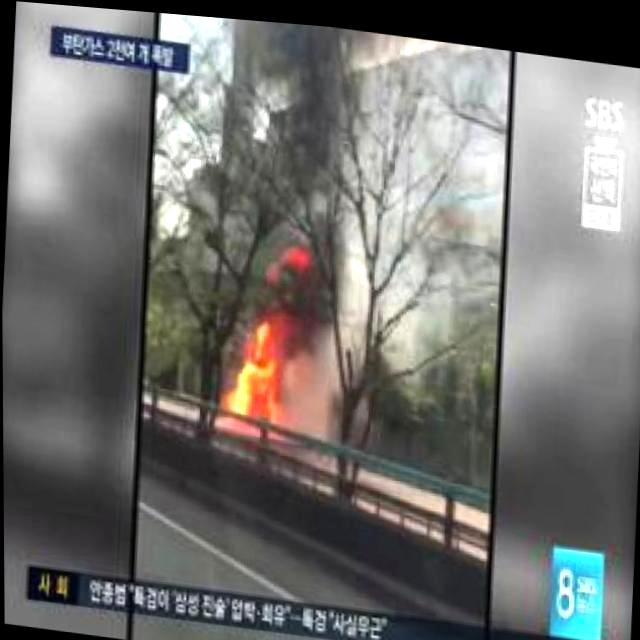fire: (215, 299, 298, 423)
